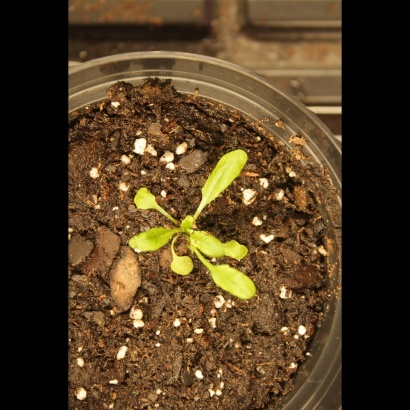leaf: (196, 143, 254, 214), (207, 261, 266, 307), (186, 225, 249, 264), (122, 223, 173, 254), (128, 183, 167, 220), (163, 255, 199, 283), (175, 207, 205, 236)
